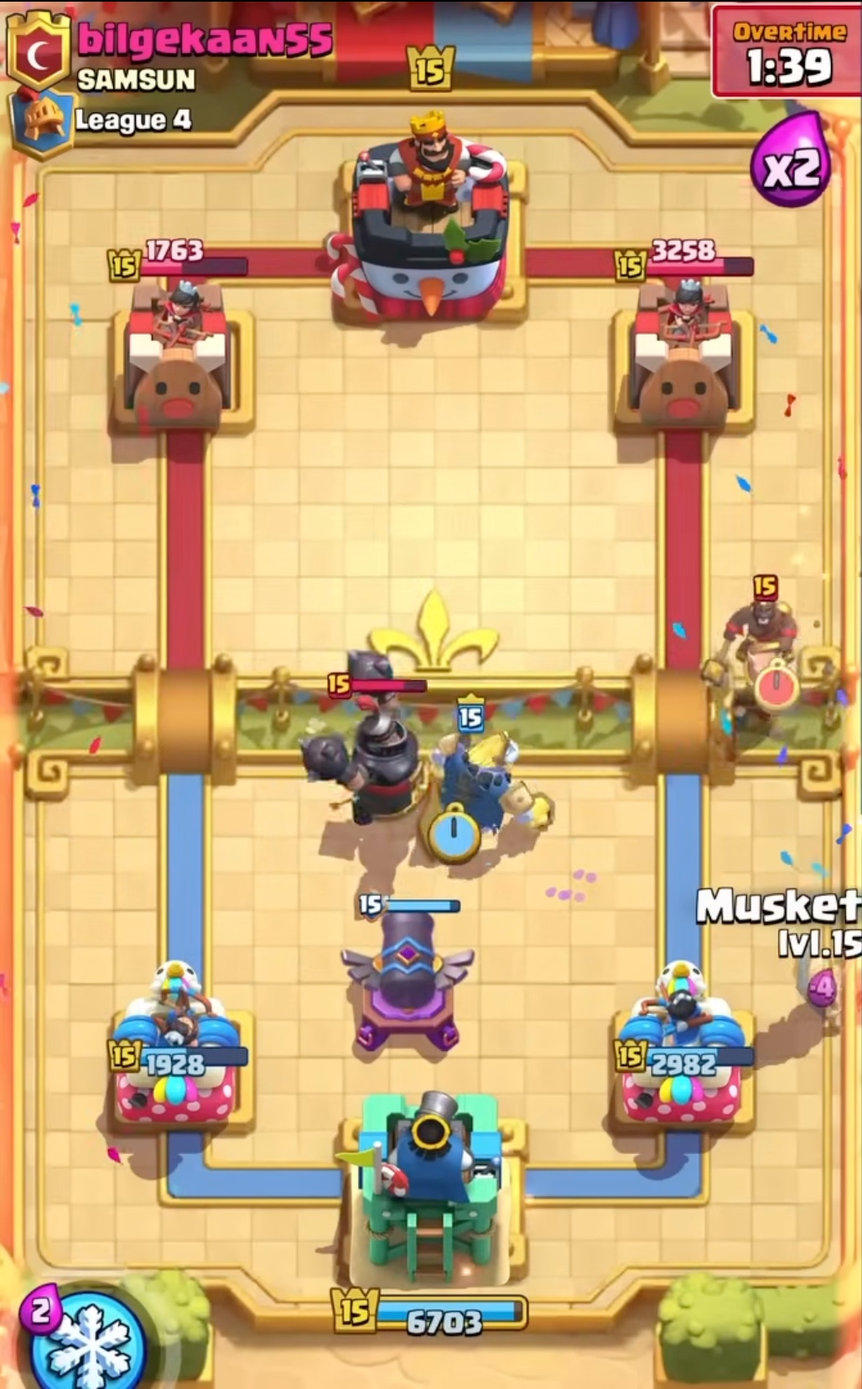evo-cannon: (335, 886, 482, 1069)
hero-ice-golem: (427, 689, 561, 861)
